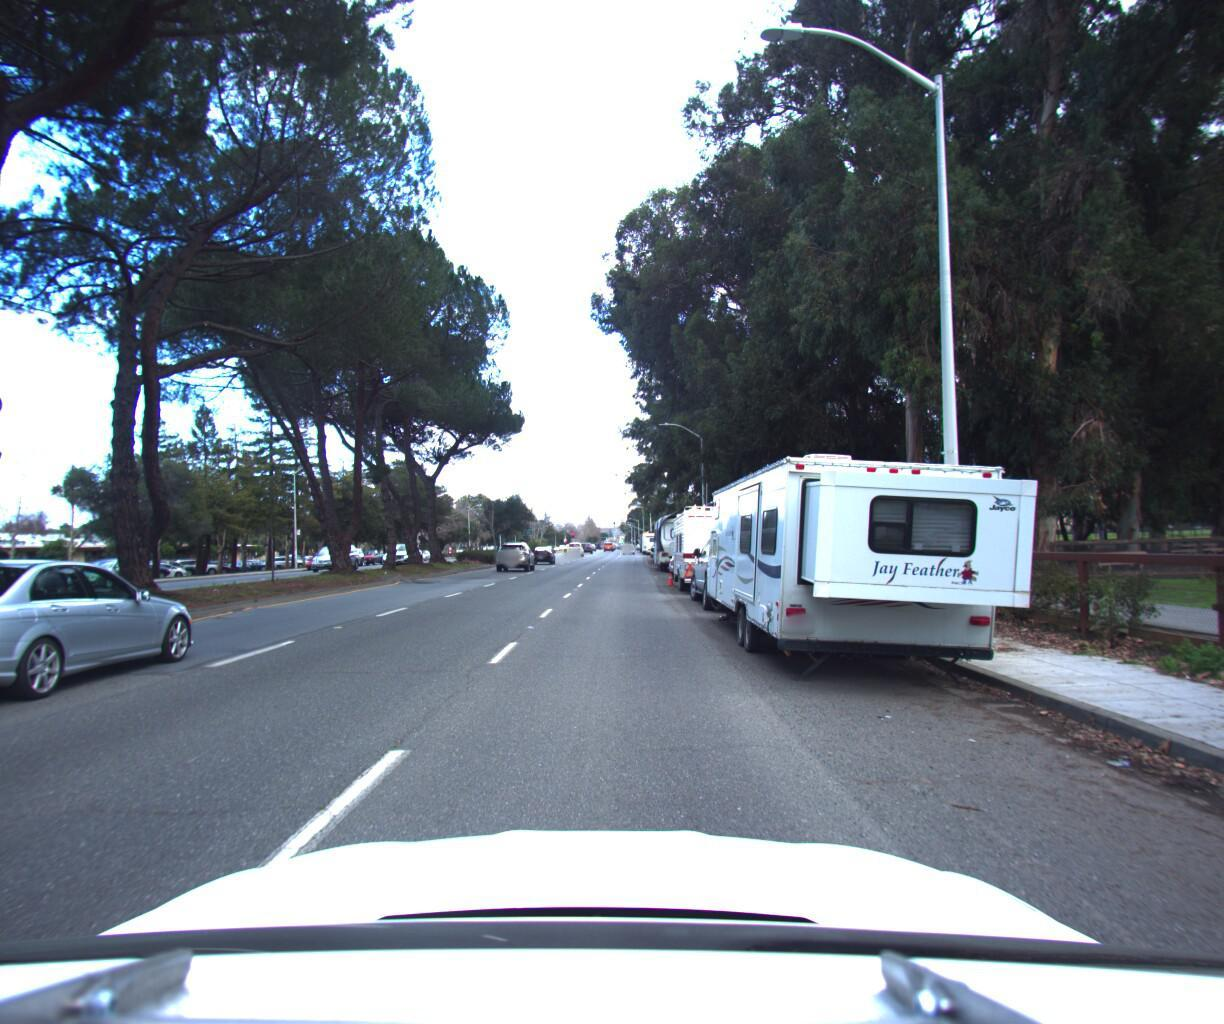car: (686, 519, 801, 609), (62, 548, 158, 585), (308, 535, 363, 565), (494, 534, 536, 566), (383, 532, 429, 557), (527, 535, 554, 557), (355, 541, 387, 558)
other_vehicle: (694, 391, 1072, 707), (665, 490, 770, 592), (650, 500, 706, 567)
